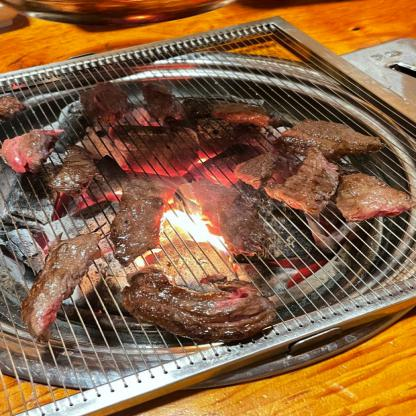Carne: (119, 276, 275, 336), (20, 237, 100, 342), (246, 150, 343, 207), (269, 118, 396, 156), (113, 182, 167, 266), (337, 165, 408, 221), (212, 204, 272, 266), (180, 92, 260, 131), (1, 126, 61, 172), (68, 84, 126, 126), (134, 81, 182, 126)
